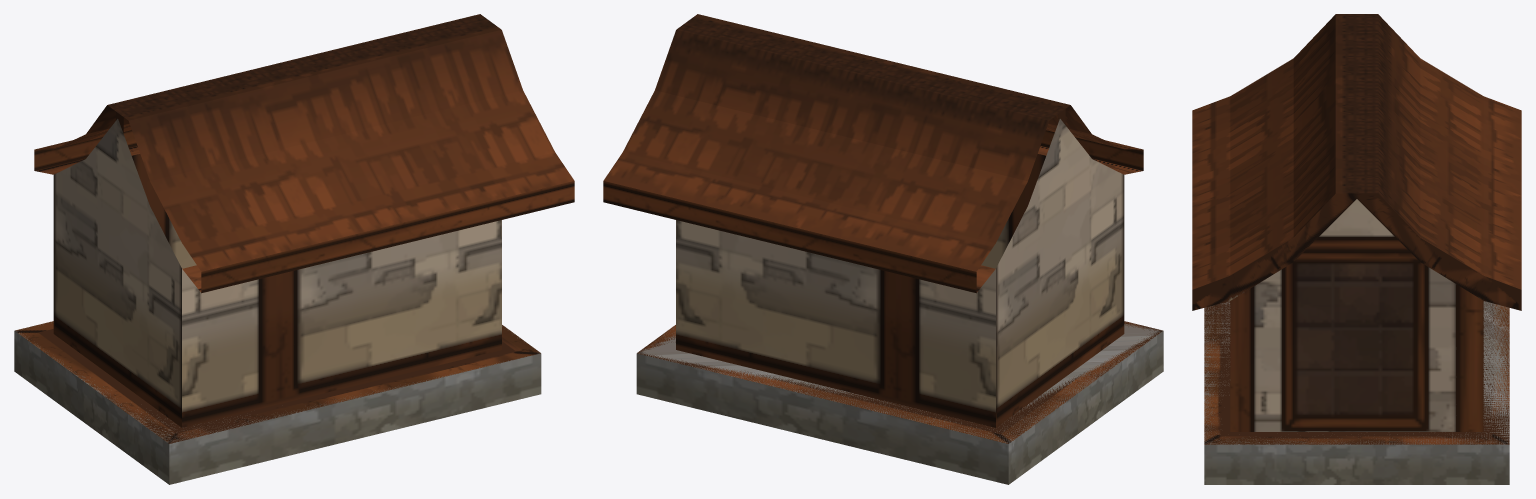
File: RoofWindow1.fbx
3 renders of one model, left to right at view 1: azimuth 30°, elevation 25°; view 2: azimuth 150°, elevation 25°; view 3: azimuth 270°, elevation 25°, orthographic.
Visible parts, largest first — view 1: Roof Window 1, Roof Window 1_col; view 2: Roof Window 1, Roof Window 1_col; view 3: Roof Window 1, Roof Window 1_col.
Part boxes in pixels (box(x1,y1,x2,y2)): Roof Window 1: box(14, 14, 574, 484); Roof Window 1_col: box(16, 322, 538, 442); Roof Window 1: box(603, 14, 1163, 484); Roof Window 1_col: box(637, 321, 1162, 443); Roof Window 1: box(1192, 14, 1521, 484); Roof Window 1_col: box(1204, 301, 1509, 444).
Bounding box in the file's own units: 276 × 204 × 200.
